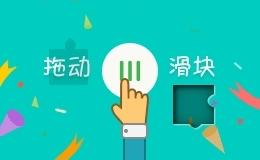target: (151, 66, 193, 104)
